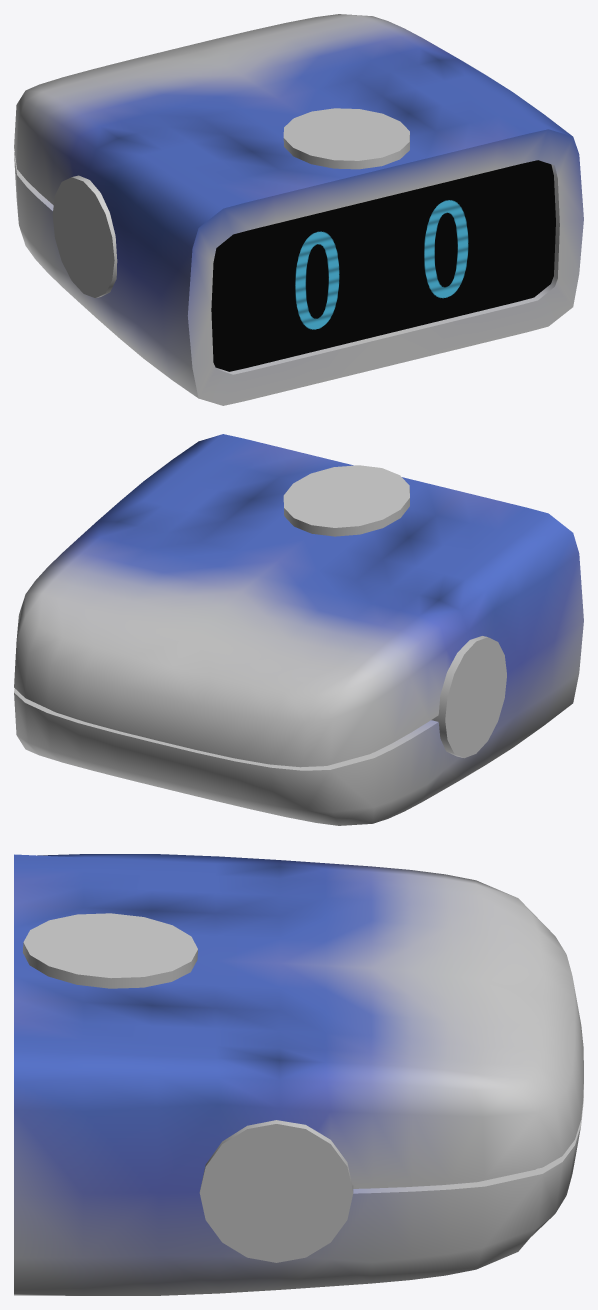
File: VR dude.fbx
3 renders of one model, top to bottom at view 1: azimuth 30°, elevation 25°; view 2: azimuth 150°, elevation 25°; view 3: azimuth 270°, elevation 25°, orthographic. The views are drawn at different scales.
Parts seen in each view (by area): view 1: Head, Glass; view 2: Head; view 3: Head.
Part boxes in pixels (x1,y1,x2,y2): Head: [14, 14, 583, 405]; Glass: [211, 160, 555, 371]; Head: [14, 434, 583, 825]; Head: [14, 854, 583, 1295].
Size of the model in its own units: 527 by 262 by 530.
